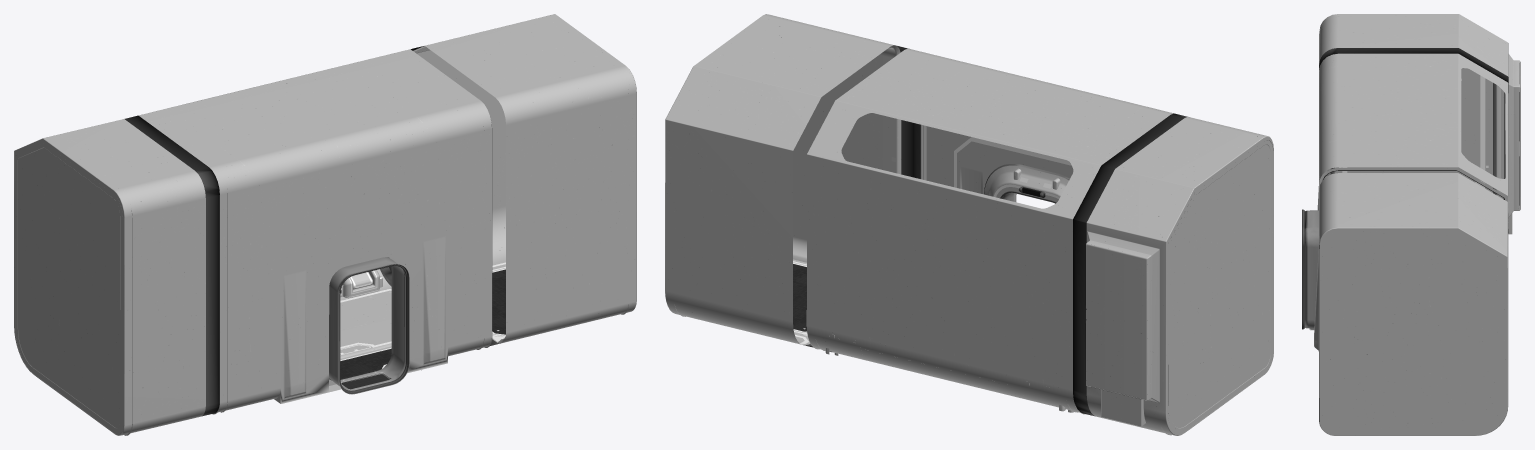
File: SM_LivingModule_3_Indoor_3_Merged.fbx
3 renders of one model, left to right at view 1: azimuth 30°, elevation 25°; view 2: azimuth 150°, elevation 25°; view 3: azimuth 270°, elevation 25°, orthographic. The views are drawn at different scales.
Parts seen in each view (by area): view 1: SM_LivingModule_3_Indoor_3_Merged_LOD0; view 2: SM_LivingModule_3_Indoor_3_Merged_LOD0; view 3: SM_LivingModule_3_Indoor_3_Merged_LOD0.
Part boxes in pixels (x1,y1,x2,y2): SM_LivingModule_3_Indoor_3_Merged_LOD0: (14, 14, 636, 435); SM_LivingModule_3_Indoor_3_Merged_LOD0: (665, 14, 1273, 435); SM_LivingModule_3_Indoor_3_Merged_LOD0: (1302, 14, 1520, 435).
Bounding box in the file's own units: 1155 × 500 × 528.
